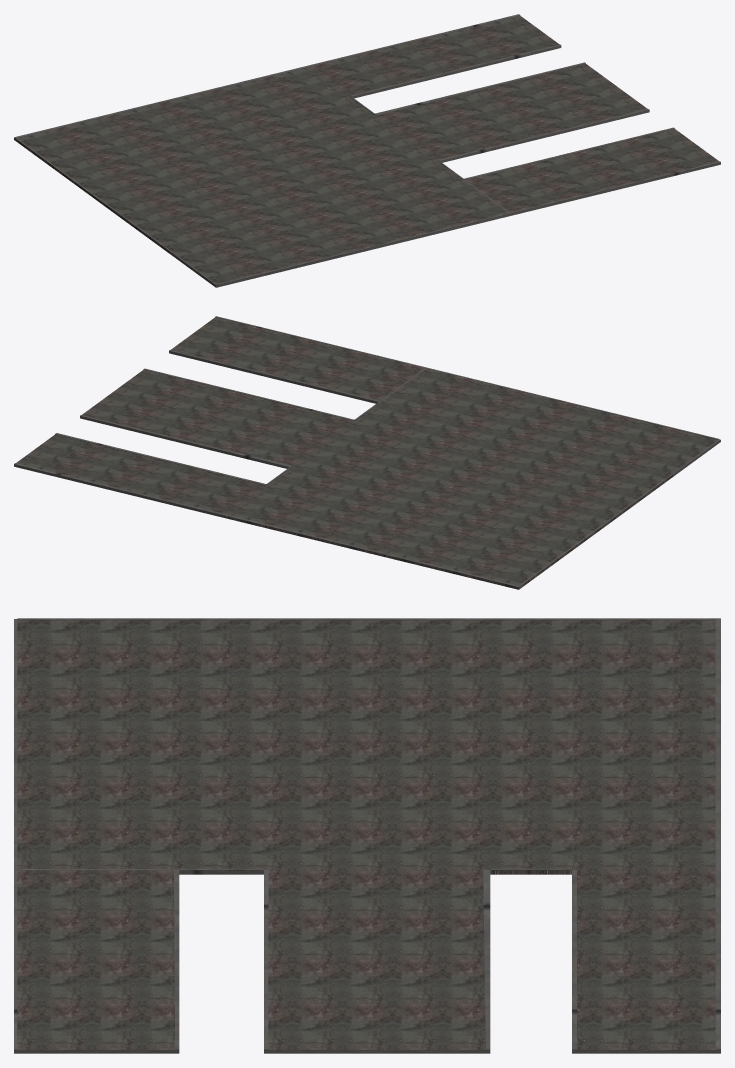
The model's file is Ground.fbx.
3 renders of one model, top to bottom at view 1: azimuth 30°, elevation 25°; view 2: azimuth 150°, elevation 25°; view 3: azimuth 270°, elevation 25°, orthographic. The views are drawn at different scales.
Visible parts, largest first — view 1: polySurface1; view 2: polySurface1; view 3: polySurface1.
Part boxes in pixels (x1=…): polySurface1: x1=14, y1=14, x2=720, y2=287; polySurface1: x1=14, y1=316, x2=720, y2=589; polySurface1: x1=14, y1=618, x2=720, y2=1053.
Size of the model in its own units: 16327 by 80.72 by 11321.
Materials: 2 (2 with a texture image).
